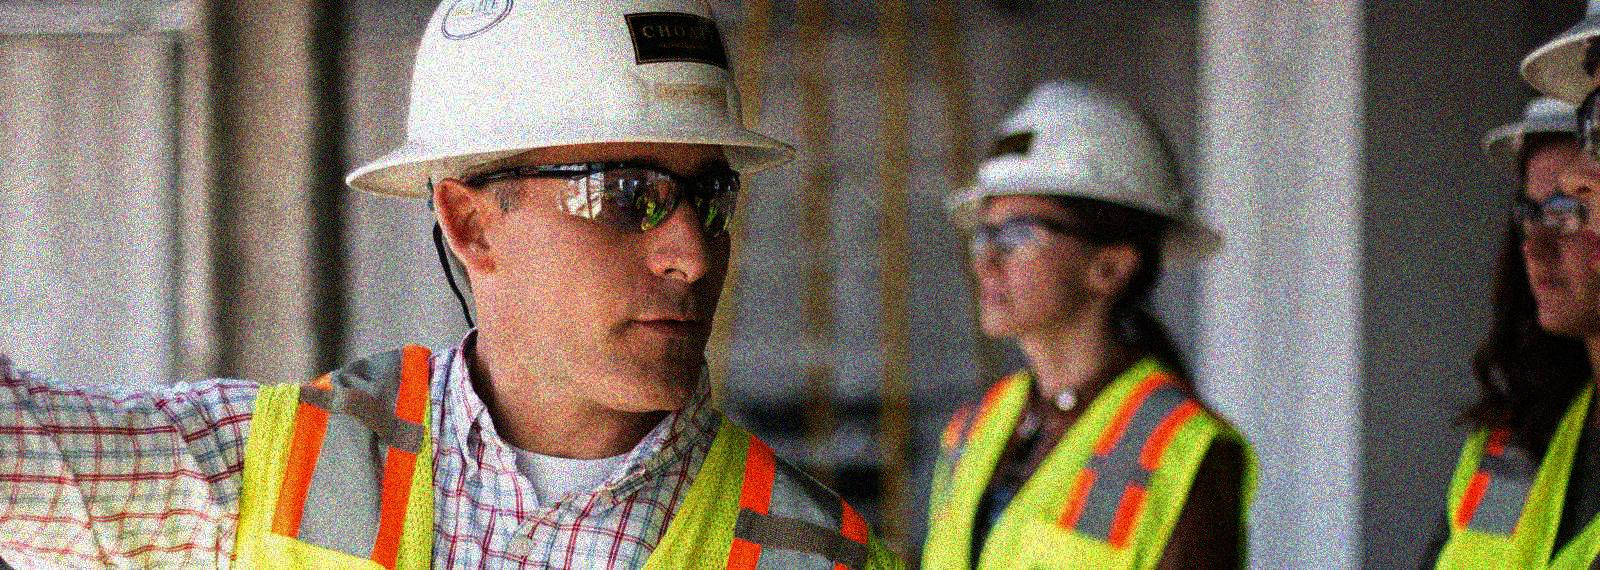helmet: (345, 1, 795, 412), (944, 73, 1229, 346), (1481, 85, 1600, 325), (1515, 1, 1600, 274)
